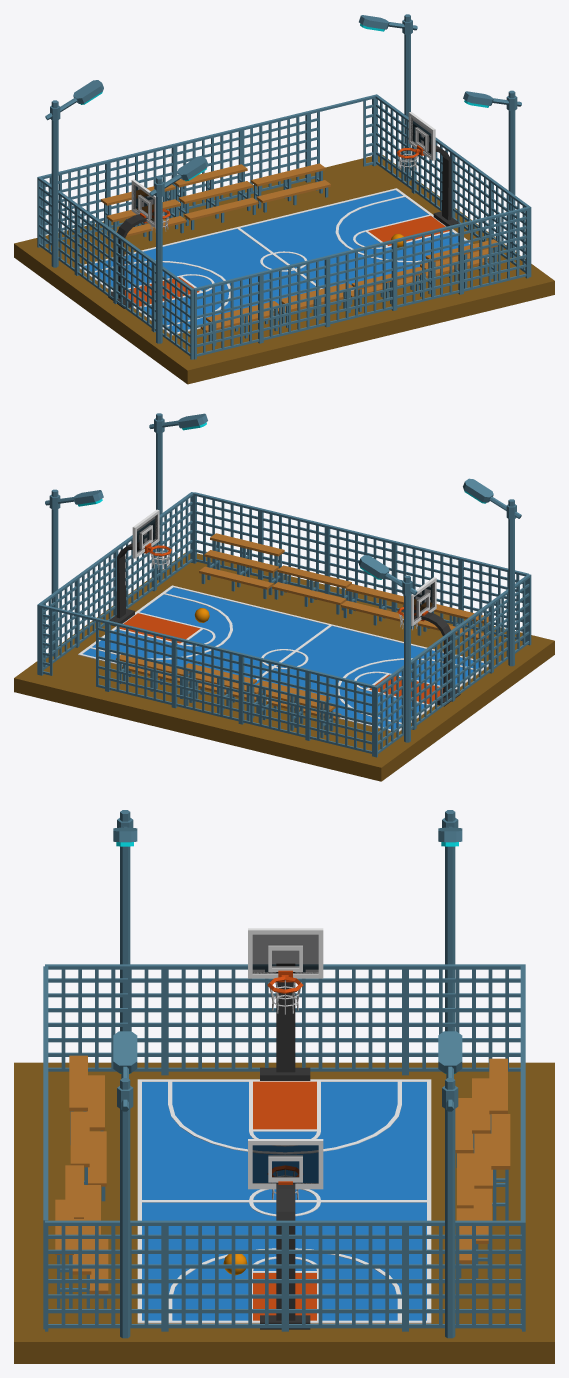
File: basketball 2.fbx
The picture shows the model from 3 angles, top to bottom: view 1: azimuth 30°, elevation 25°; view 2: azimuth 150°, elevation 25°; view 3: azimuth 270°, elevation 25°; orthographic projection. The views are drawn at different scales.
Visible parts, largest first — view 1: Box14890, Plane1292, Box15534, Box15533, Box15535, Box14954, Box15536, Rectangle004, Box15541, Box14969, Box15548, Box15547 (+23 smaller); view 2: Box14890, Plane1292, Box15540, Box15539, Box15541, Box15538, Rectangle004, Box15553, Box15535, Box15534, Box15536, Box15547 (+23 smaller); view 3: Box14890, Plane1292, Rectangle004, Box15543, Box15544, Box15545, Box15542, Object283.001, Box15547, Box15548, Box15546, Box15549 (+13 smaller).
Part boxes in pixels (x1,y1,x2,y2): Box14890: (14,155,554,384); Plane1292: (84,190,469,331); Box15534: (327,239,395,326); Box15533: (260,256,328,342); Box15535: (394,223,461,310); Box14954: (193,272,261,359); Box15536: (461,207,528,294); Rectangle004: (79,188,488,335); Box15541: (241,111,308,195); Box14969: (173,164,258,230); Box15548: (75,204,116,302); Box15547: (114,233,154,331); Box14890: (14,553,554,781); Plane1292: (83,587,483,729); Box15540: (173,637,241,723); Box15539: (240,653,308,740); Box15541: (107,620,174,707); Box15538: (307,669,375,756); Rectangle004: (78,585,488,732); Box15553: (199,533,284,599); Box15535: (260,508,327,593); Box15534: (326,524,394,611); Box15536: (193,492,261,579); Box15547: (451,602,492,700); Box14890: (14,1062,554,1363); Plane1292: (142,1082,426,1320); Rectangle004: (137,1079,431,1323); Box15543: (165,1220,285,1331); Box15544: (285,1220,405,1331); Box15545: (405,1220,525,1331); Box15542: (45,1220,164,1331); Object283.001: (248,928,323,1080); Box15547: (165,964,276,1075); Box15548: (295,964,405,1075); Box15546: (45,964,164,1075); Box15549: (405,964,525,1075).
Bounding box in the file's own units: 1111 × 538 × 900.
